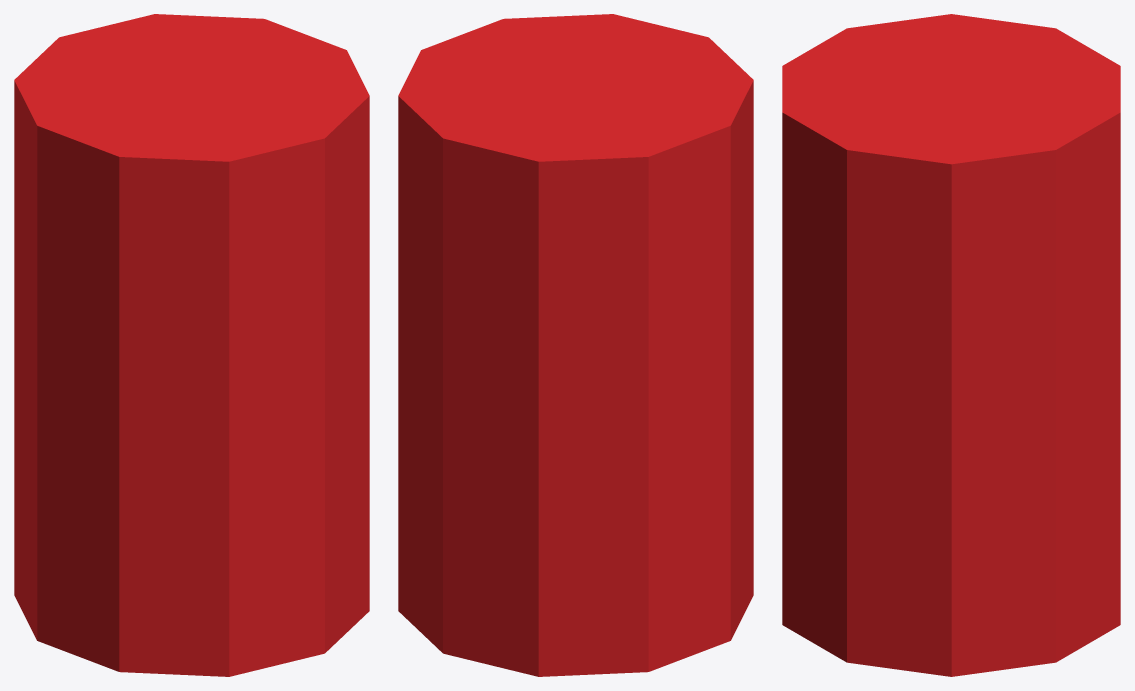
The model's file is prop38_liquidC.FBX.
3 views of the same model, side by side, from view 1: azimuth 30°, elevation 25°; view 2: azimuth 150°, elevation 25°; view 3: azimuth 270°, elevation 25° (orthographic).
Parts seen in each view (by area): view 1: prop38_liquidC; view 2: prop38_liquidC; view 3: prop38_liquidC.
Boxes of the visible parts, x1,y1,x2,y2 form: prop38_liquidC: [14, 14, 369, 676]; prop38_liquidC: [398, 14, 753, 676]; prop38_liquidC: [782, 14, 1120, 676].
Bounding box in the file's own units: 5.45 × 8.67 × 5.19.
